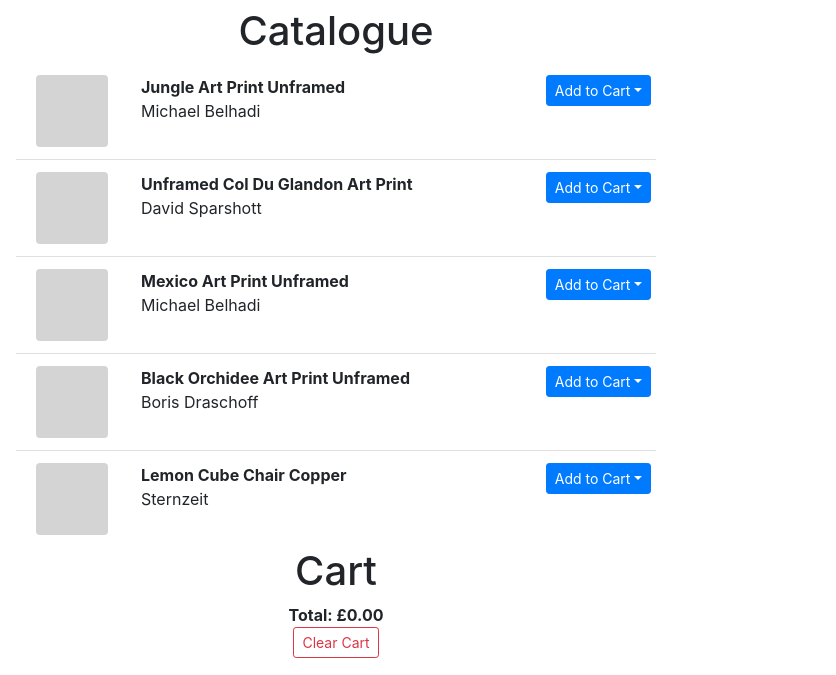
Test case: e2e tests - as a user › when I load the home page › I can click dropdowns to see item variants and their details
What coordinates should you click on to do the following:
click the button "Add to Cart" in the row of "Jungle Art Print Unframed"
I would click on:
 (598, 90)
Its box is x1=546 y1=75 x2=651 y2=106.
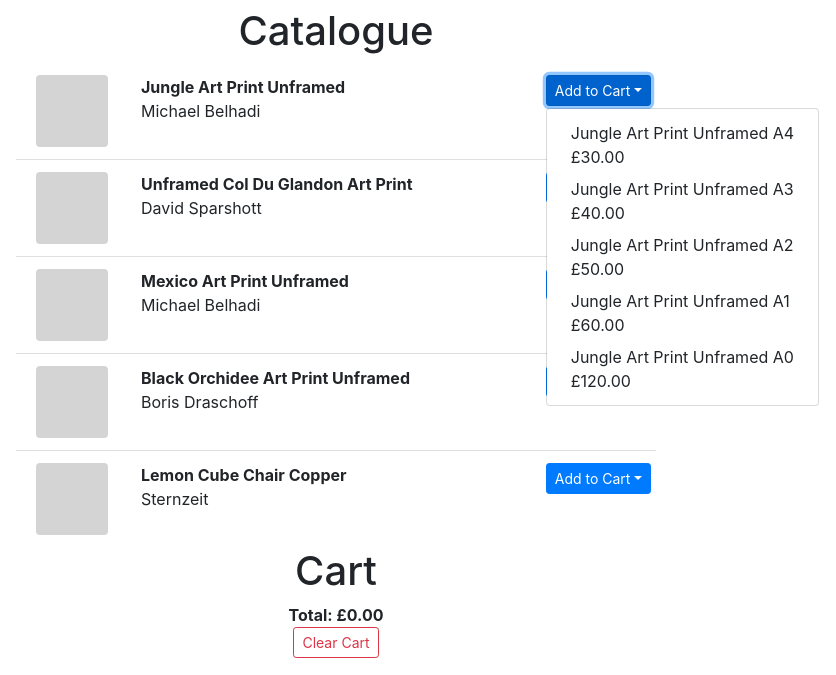
Expected: the text "Jungle Art Print Unframed A4" is shown, x1=571 y1=121 x2=794 y2=145
Expected: the text "£30.00" is shown, x1=571 y1=147 x2=624 y2=167
Expected: the text "Jungle Art Print Unframed A3" is shown, x1=571 y1=177 x2=794 y2=201
